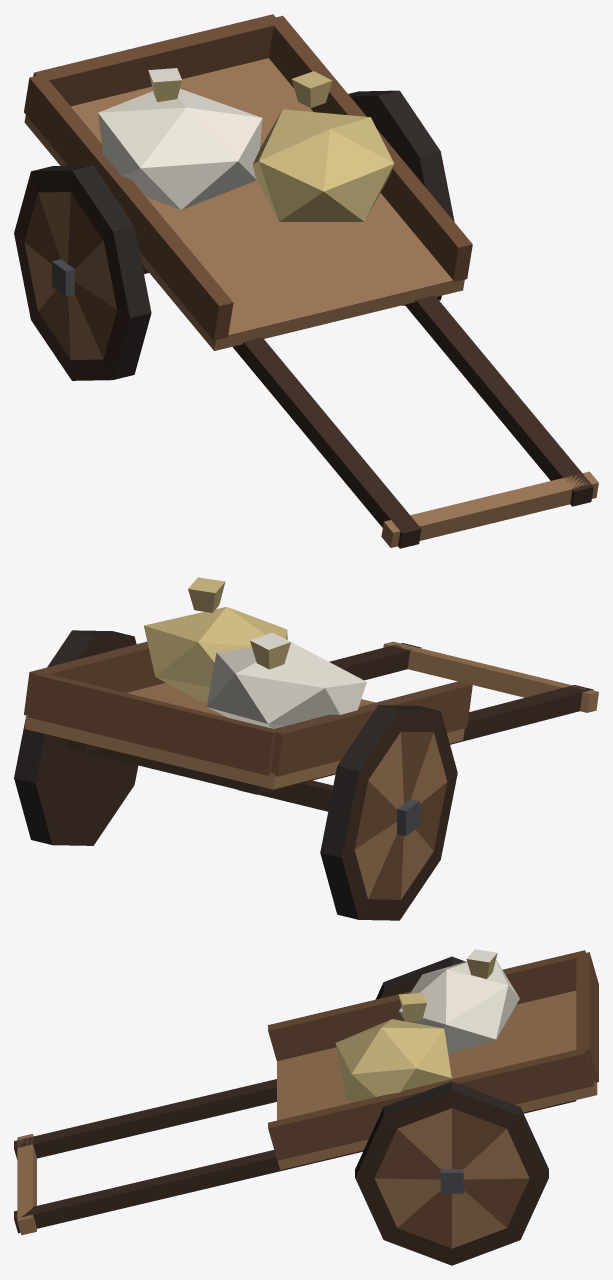
The model's file is cart_hand.fbx.
The picture shows the model from 3 angles, top to bottom: view 1: azimuth 30°, elevation 25°; view 2: azimuth 150°, elevation 25°; view 3: azimuth 270°, elevation 25°; orthographic projection. The views are drawn at different scales.
Parts seen in each view (by area): view 1: cart_hand; view 2: cart_hand; view 3: cart_hand.
Boxes of the visible parts, x1,y1,x2,y2 form: cart_hand: (14, 14, 598, 548); cart_hand: (14, 577, 598, 920); cart_hand: (14, 949, 598, 1265).
Size of the model in its own units: 1.48 by 1.06 by 2.53.
